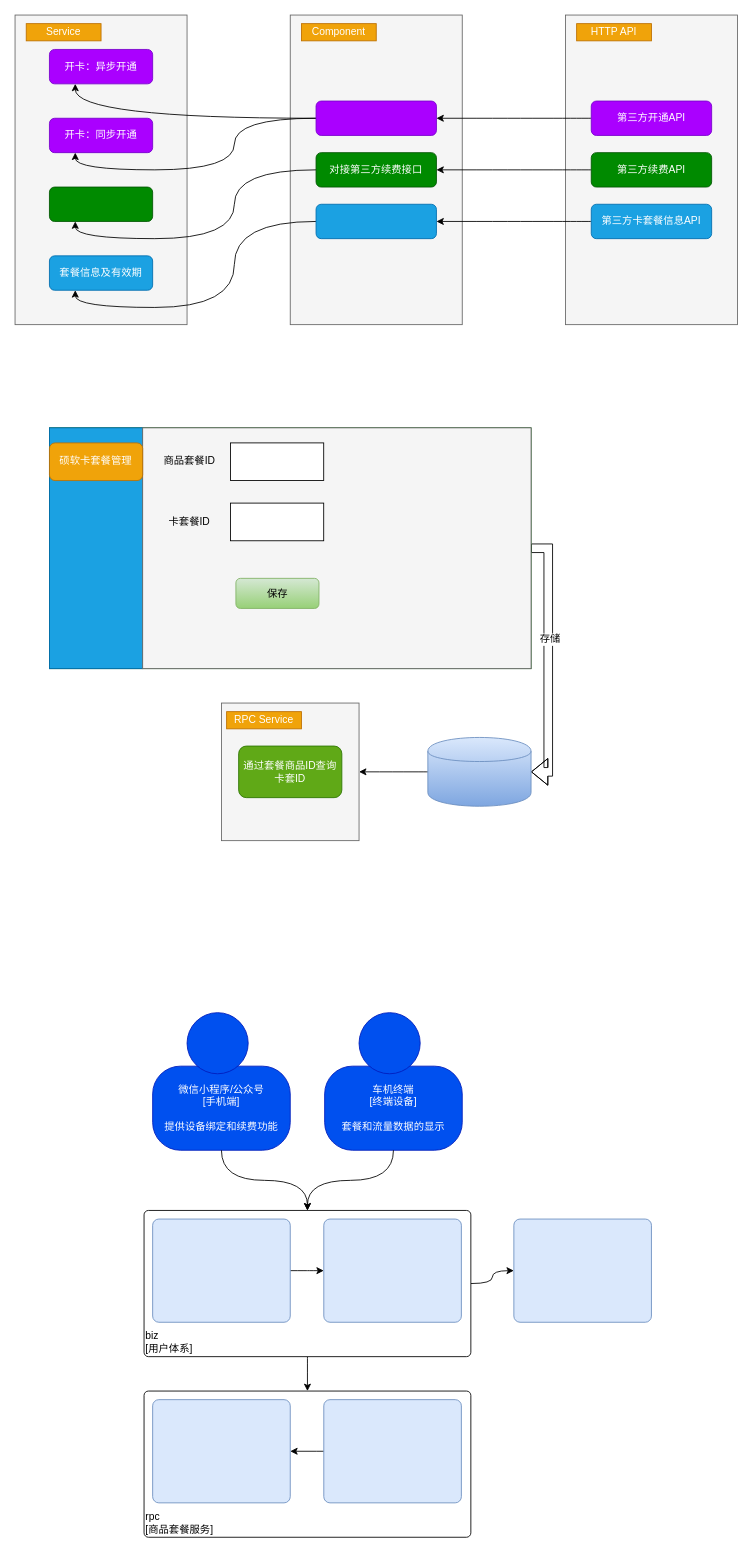
Image size: 753x1552. Some labels were removed from this diagram. The centre of each missing label's shape, as x and y in pixels:
"admin-goods [商品套餐后台 ] 提供套餐服务的管理界面" goes at (x=392, y=1451).
"biz-common [用户体系基础服务 ] 提供续费，套餐信息，流量信息查询" goes at (x=392, y=1270).
"biz-user [用户体系服务 ] 提供设备绑定，卡套餐开通" goes at (x=221, y=1270).
"DB" goes at (x=479, y=771).
"rpc-goods [商品套餐RPC服务 ] 提供商品套餐的RPC接口服务" goes at (x=221, y=1451).
"对接第三方卡套餐信息获取接口" goes at (x=375, y=221).
"对接第三方开通接口" goes at (x=375, y=117).
"硕软 [硕软API ] 提供开卡，续费，卡信息查询的API" goes at (x=582, y=1270).
"续费" goes at (x=101, y=203).
